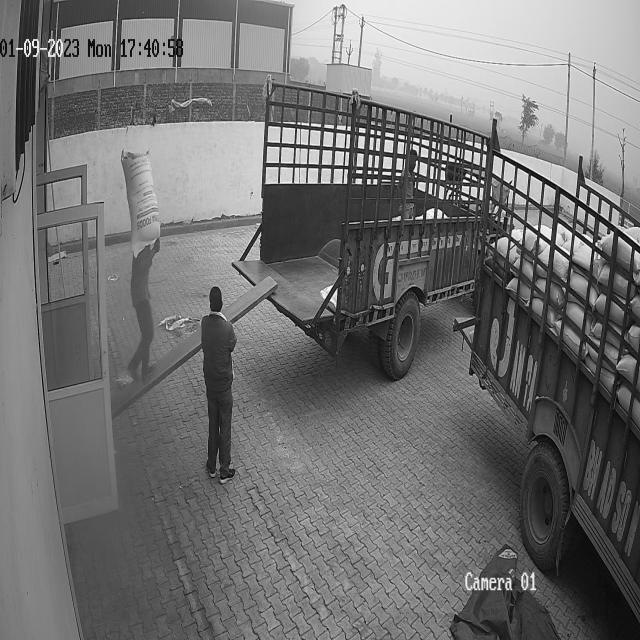sack: (120, 149, 160, 257)
